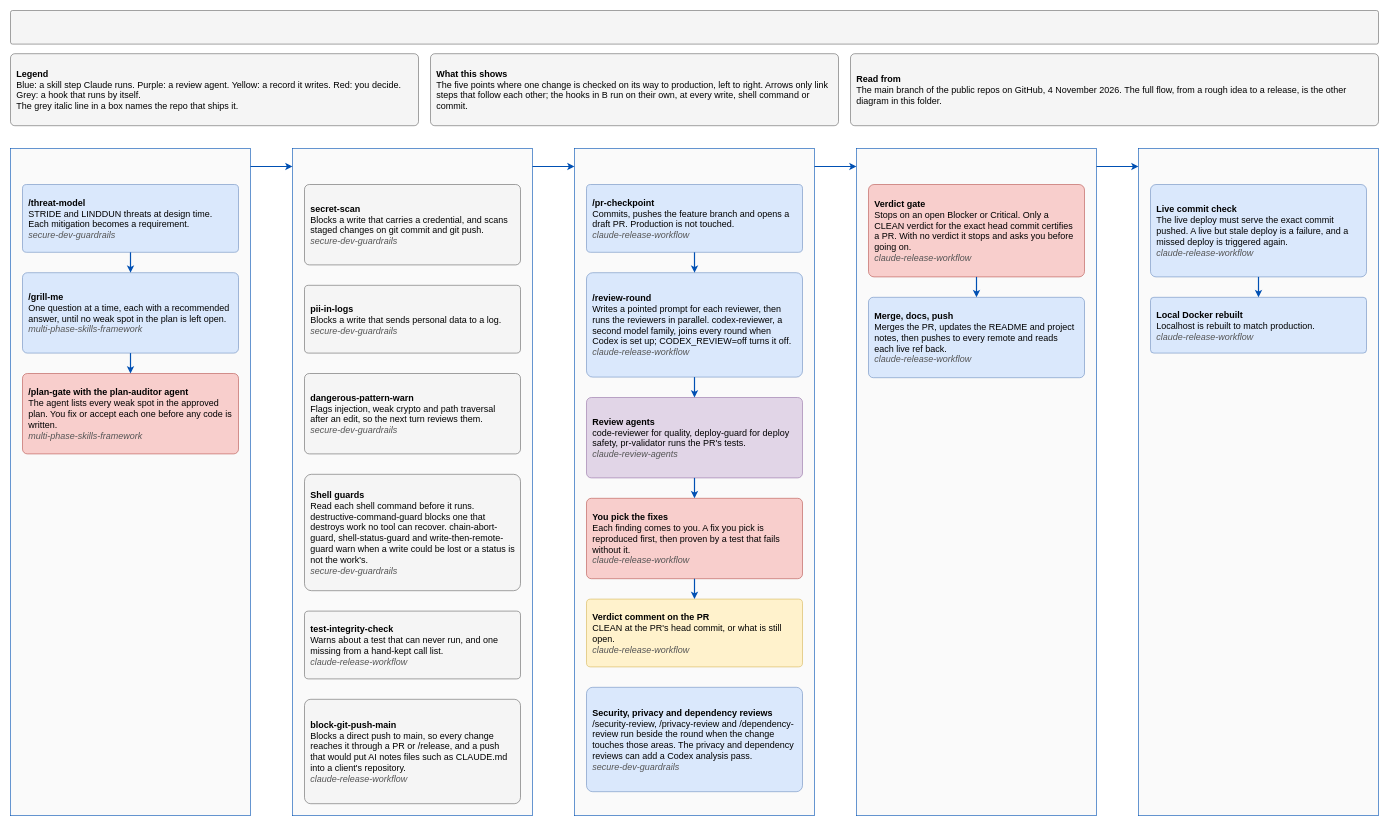
Some shapes in this 1389 by 826 pixel diagram are drawn without their labels. Here are the shapes that lost their labels. From the top down, the box of each, then its label:
(10, 10, 1378, 44): Review checkpoints in the public packs | github.com/eranw2000 | 4 November 2026
(10, 148, 250, 816): A. Before code: plan review
(292, 148, 532, 816): B. At commit
(574, 148, 814, 816): C. At the PR
(856, 148, 1096, 816): D. At merge: /release
(1138, 148, 1378, 816): E. After deploy
